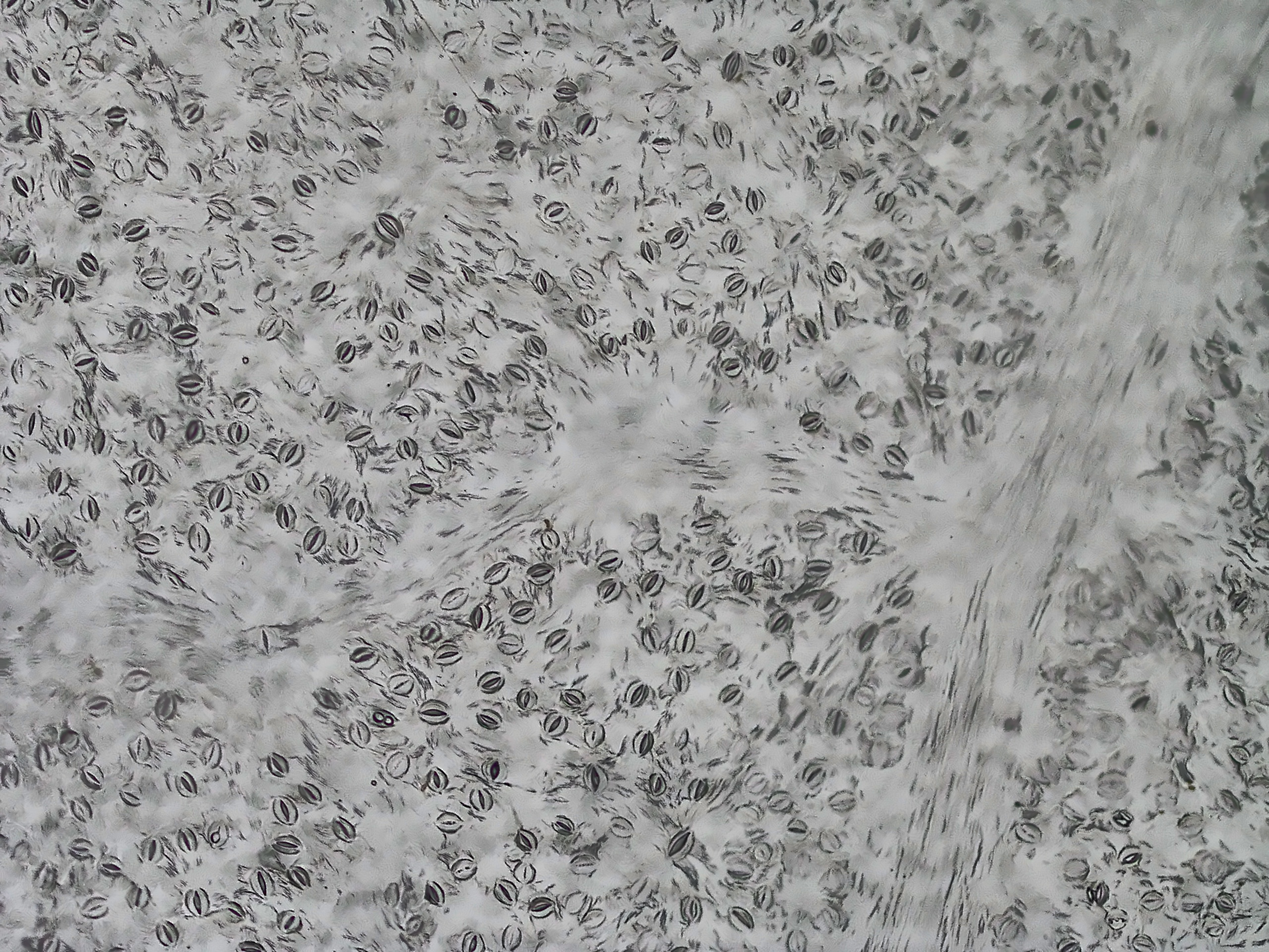stomata: (855, 229, 898, 270), (120, 723, 158, 764), (548, 61, 584, 102), (685, 501, 726, 537), (118, 658, 158, 694), (869, 728, 900, 773), (505, 593, 542, 630), (668, 820, 698, 863), (764, 654, 809, 682), (715, 44, 749, 81), (182, 882, 216, 919), (808, 67, 846, 100), (824, 787, 867, 816), (494, 236, 525, 276), (623, 320, 664, 350), (263, 748, 297, 784), (1229, 478, 1263, 514), (801, 751, 834, 788), (697, 189, 729, 227), (431, 583, 470, 614), (429, 637, 469, 667), (816, 252, 851, 286), (860, 59, 893, 95), (327, 814, 363, 847), (1035, 206, 1072, 238), (269, 793, 301, 830), (67, 788, 101, 822), (900, 13, 933, 48), (173, 768, 206, 803), (374, 213, 410, 245), (592, 39, 628, 71), (50, 276, 88, 306), (1195, 852, 1233, 882), (727, 895, 756, 934), (331, 529, 364, 563), (889, 659, 923, 692), (855, 386, 887, 421), (938, 276, 973, 308), (821, 702, 853, 737), (765, 604, 795, 641), (151, 685, 180, 723), (768, 30, 794, 72), (1212, 784, 1246, 816), (472, 306, 507, 337), (683, 769, 714, 804), (540, 630, 580, 657), (916, 381, 954, 409), (64, 831, 102, 859), (525, 561, 563, 589), (706, 315, 739, 347), (294, 776, 327, 808), (421, 694, 454, 726), (78, 691, 117, 718), (0, 754, 27, 793), (520, 404, 556, 433), (634, 568, 670, 597), (734, 802, 770, 831), (15, 506, 43, 543), (478, 561, 516, 588), (55, 720, 86, 753), (41, 4, 75, 34), (677, 254, 711, 284), (781, 219, 815, 249), (433, 807, 467, 837), (625, 676, 655, 710), (278, 435, 307, 470), (373, 20, 408, 49), (958, 9, 997, 35), (592, 578, 631, 604), (51, 416, 79, 452), (720, 219, 748, 255), (252, 866, 280, 902), (801, 560, 843, 584), (716, 675, 744, 711), (49, 537, 81, 568), (1209, 604, 1240, 636), (549, 808, 583, 837), (421, 876, 449, 911), (131, 457, 156, 496), (1002, 211, 1029, 247), (565, 263, 602, 289), (474, 89, 505, 120), (1214, 367, 1244, 399), (862, 619, 886, 659), (1224, 677, 1254, 709), (205, 478, 234, 511), (539, 195, 572, 224), (30, 862, 59, 895), (883, 103, 911, 137), (115, 497, 153, 522), (205, 817, 230, 855), (793, 516, 829, 542), (1129, 680, 1159, 711), (176, 97, 208, 126), (345, 422, 377, 451), (575, 108, 608, 136), (29, 738, 57, 771), (27, 107, 53, 142), (123, 314, 153, 344), (87, 427, 117, 457), (201, 732, 226, 768), (277, 908, 307, 938), (770, 79, 801, 108), (823, 365, 854, 394), (850, 679, 881, 708), (634, 726, 662, 758), (644, 767, 672, 799), (580, 902, 608, 934), (640, 90, 687, 109), (120, 216, 157, 240), (140, 155, 174, 181), (287, 860, 313, 894), (1176, 810, 1210, 836), (454, 924, 489, 949), (1175, 889, 1210, 914), (748, 835, 778, 864), (225, 416, 253, 447), (406, 475, 437, 503), (946, 121, 977, 149), (540, 711, 571, 739), (1117, 843, 1148, 871), (540, 116, 564, 152), (478, 665, 510, 692), (1013, 820, 1045, 847), (247, 194, 286, 216), (1090, 75, 1116, 108), (386, 746, 412, 779), (763, 548, 786, 585), (371, 703, 405, 728), (1140, 883, 1170, 911), (226, 15, 257, 42), (393, 402, 420, 433), (126, 882, 153, 913), (1202, 909, 1229, 940), (858, 521, 880, 559), (953, 192, 985, 218), (813, 590, 845, 616), (345, 489, 368, 525), (181, 524, 210, 552), (523, 335, 552, 363), (858, 129, 886, 158), (138, 262, 168, 289), (409, 264, 436, 294), (484, 752, 511, 782), (815, 824, 845, 851), (812, 118, 838, 149), (81, 489, 104, 524), (78, 898, 113, 921), (351, 647, 383, 672), (632, 528, 664, 553), (781, 816, 813, 841), (817, 898, 842, 930), (587, 756, 608, 794), (311, 280, 344, 304), (37, 473, 70, 497), (577, 300, 601, 333), (174, 823, 198, 856), (799, 405, 827, 433), (492, 880, 521, 907), (65, 153, 99, 176), (176, 260, 202, 290), (23, 408, 49, 438), (469, 784, 495, 814), (268, 833, 305, 854), (738, 768, 775, 789), (754, 881, 779, 912), (243, 130, 275, 154), (1205, 334, 1237, 358), (384, 667, 416, 691), (715, 859, 755, 878), (174, 375, 210, 396), (663, 221, 691, 248), (467, 604, 495, 631), (33, 61, 59, 90), (438, 417, 467, 443), (302, 49, 332, 74), (1057, 107, 1087, 132), (538, 160, 582, 177), (590, 547, 624, 569), (81, 762, 105, 793), (95, 854, 126, 878), (639, 625, 670, 649), (283, 1, 322, 20), (100, 106, 135, 127), (251, 66, 286, 87), (448, 857, 483, 878), (1052, 930, 1087, 951), (6, 282, 33, 309), (42, 925, 69, 952), (708, 546, 735, 573), (1215, 639, 1242, 666), (595, 331, 623, 357), (408, 910, 434, 938), (75, 195, 108, 217), (75, 250, 108, 272), (888, 588, 921, 610), (654, 129, 679, 158), (874, 195, 903, 220), (689, 156, 714, 185), (223, 897, 248, 926), (527, 895, 556, 920), (12, 171, 42, 195), (334, 160, 368, 181), (1091, 122, 1114, 153), (11, 243, 38, 269), (583, 718, 610, 744), (781, 923, 807, 950), (535, 267, 560, 295), (721, 356, 749, 381), (115, 787, 150, 807), (478, 705, 506, 730), (891, 299, 920, 323), (1063, 861, 1096, 882), (800, 312, 823, 342), (140, 833, 163, 863), (515, 858, 545, 881), (517, 827, 540, 857), (420, 617, 443, 647), (302, 527, 324, 558), (500, 367, 531, 389), (689, 582, 711, 613), (229, 389, 263, 409), (444, 25, 470, 51), (183, 421, 209, 447), (732, 569, 758, 595), (196, 299, 228, 320), (246, 465, 270, 493), (429, 762, 450, 794), (682, 890, 702, 923), (498, 633, 529, 654), (208, 195, 235, 219), (494, 29, 528, 48), (9, 356, 32, 384), (540, 525, 568, 548), (716, 641, 738, 670), (962, 406, 981, 439), (910, 57, 935, 82), (515, 685, 540, 710), (641, 238, 665, 264), (757, 347, 781, 373), (1214, 890, 1240, 914), (838, 159, 861, 186), (1133, 929, 1160, 952), (768, 791, 799, 811), (207, 157, 235, 179), (76, 353, 104, 375), (315, 489, 343, 511), (1089, 882, 1117, 904), (1226, 742, 1254, 764), (384, 878, 402, 912), (677, 622, 695, 656), (1227, 587, 1256, 608), (114, 31, 144, 51), (447, 106, 471, 131), (670, 664, 690, 694), (611, 814, 635, 839), (371, 47, 397, 70), (377, 319, 403, 342), (853, 429, 879, 452), (159, 918, 182, 944), (115, 155, 137, 182), (398, 435, 420, 462), (576, 843, 595, 874), (335, 342, 363, 363), (715, 118, 735, 147), (319, 398, 344, 421), (744, 187, 767, 212), (917, 99, 942, 122), (568, 890, 593, 913), (811, 28, 833, 54), (674, 726, 696, 752), (823, 864, 845, 890), (149, 413, 168, 443), (176, 324, 203, 345), (560, 684, 587, 705), (313, 102, 346, 119), (1103, 909, 1132, 928), (1042, 80, 1063, 106), (273, 94, 300, 114), (725, 275, 752, 295), (1164, 575, 1191, 595), (70, 398, 98, 417), (911, 264, 930, 292), (137, 533, 160, 556), (451, 342, 475, 364), (259, 317, 284, 338), (279, 496, 294, 531), (659, 43, 686, 62), (965, 343, 988, 365), (887, 446, 907, 471), (463, 379, 480, 408), (503, 927, 525, 949), (210, 253, 242, 268), (294, 175, 319, 194), (183, 164, 204, 186), (976, 383, 998, 404), (461, 266, 484, 286), (272, 237, 307, 250), (9, 57, 25, 85), (252, 286, 285, 299), (994, 347, 1019, 364), (2, 442, 22, 463), (427, 320, 446, 342), (502, 144, 518, 168), (362, 299, 380, 320), (351, 722, 369, 743), (1252, 520, 1269, 541), (392, 300, 412, 317), (595, 326, 602, 330)
